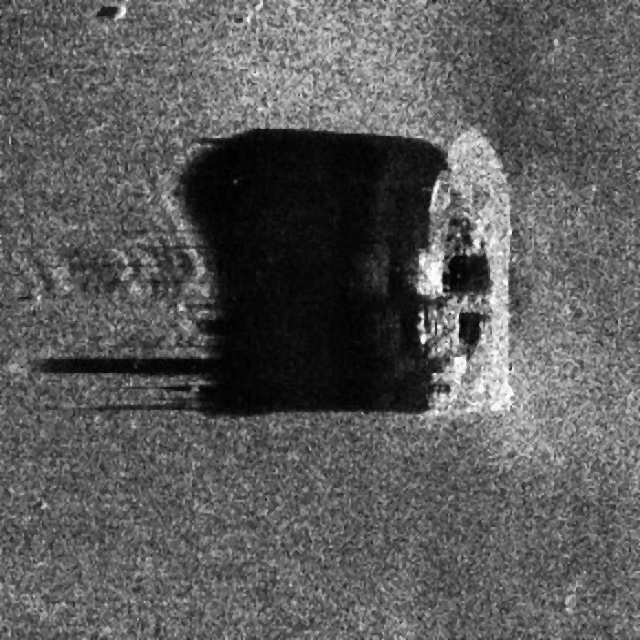Ship: (396, 117, 534, 420)
